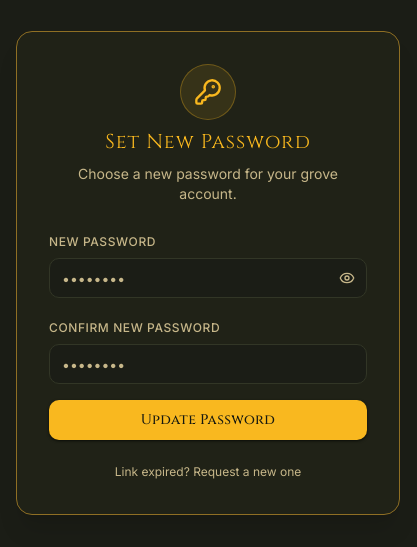
Test case: valid recovery enables form and shows success only after update succeeds
Expected: the button "Update Password" is enabled, [49,400,367,440]
Note: Wait for readiness, not merely presence of the fields.
Type "synthetic-test-password" into the password field labelled "New Password" at (208, 278), box [49,258,367,298]
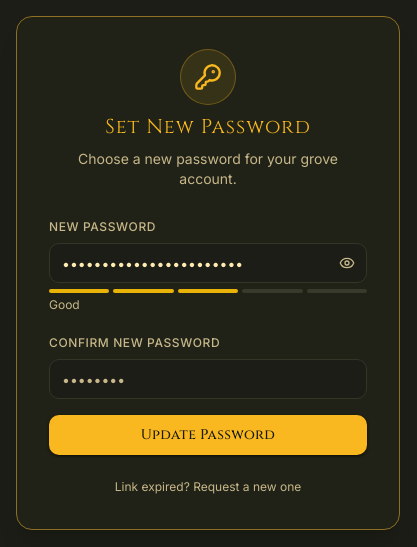
Type "synthetic-test-password" into the password field labelled "Confirm New Password" at (208, 379), box [49,359,367,399]
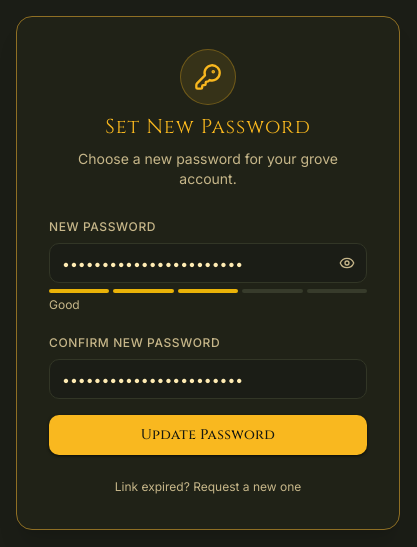
Click the button "Update Password" at (208, 435), box [49,415,367,455]
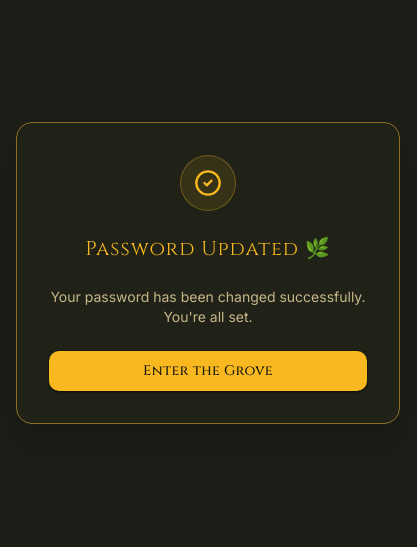
Now the heading "Password Updated 🌿" is shown, box [85,235,331,262]
